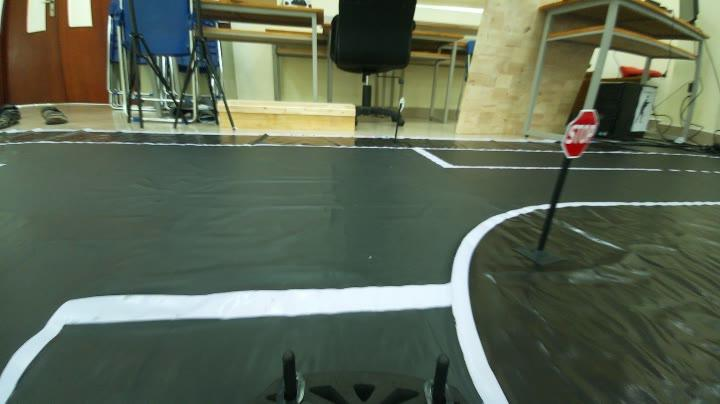stop: (562, 106, 602, 164)
